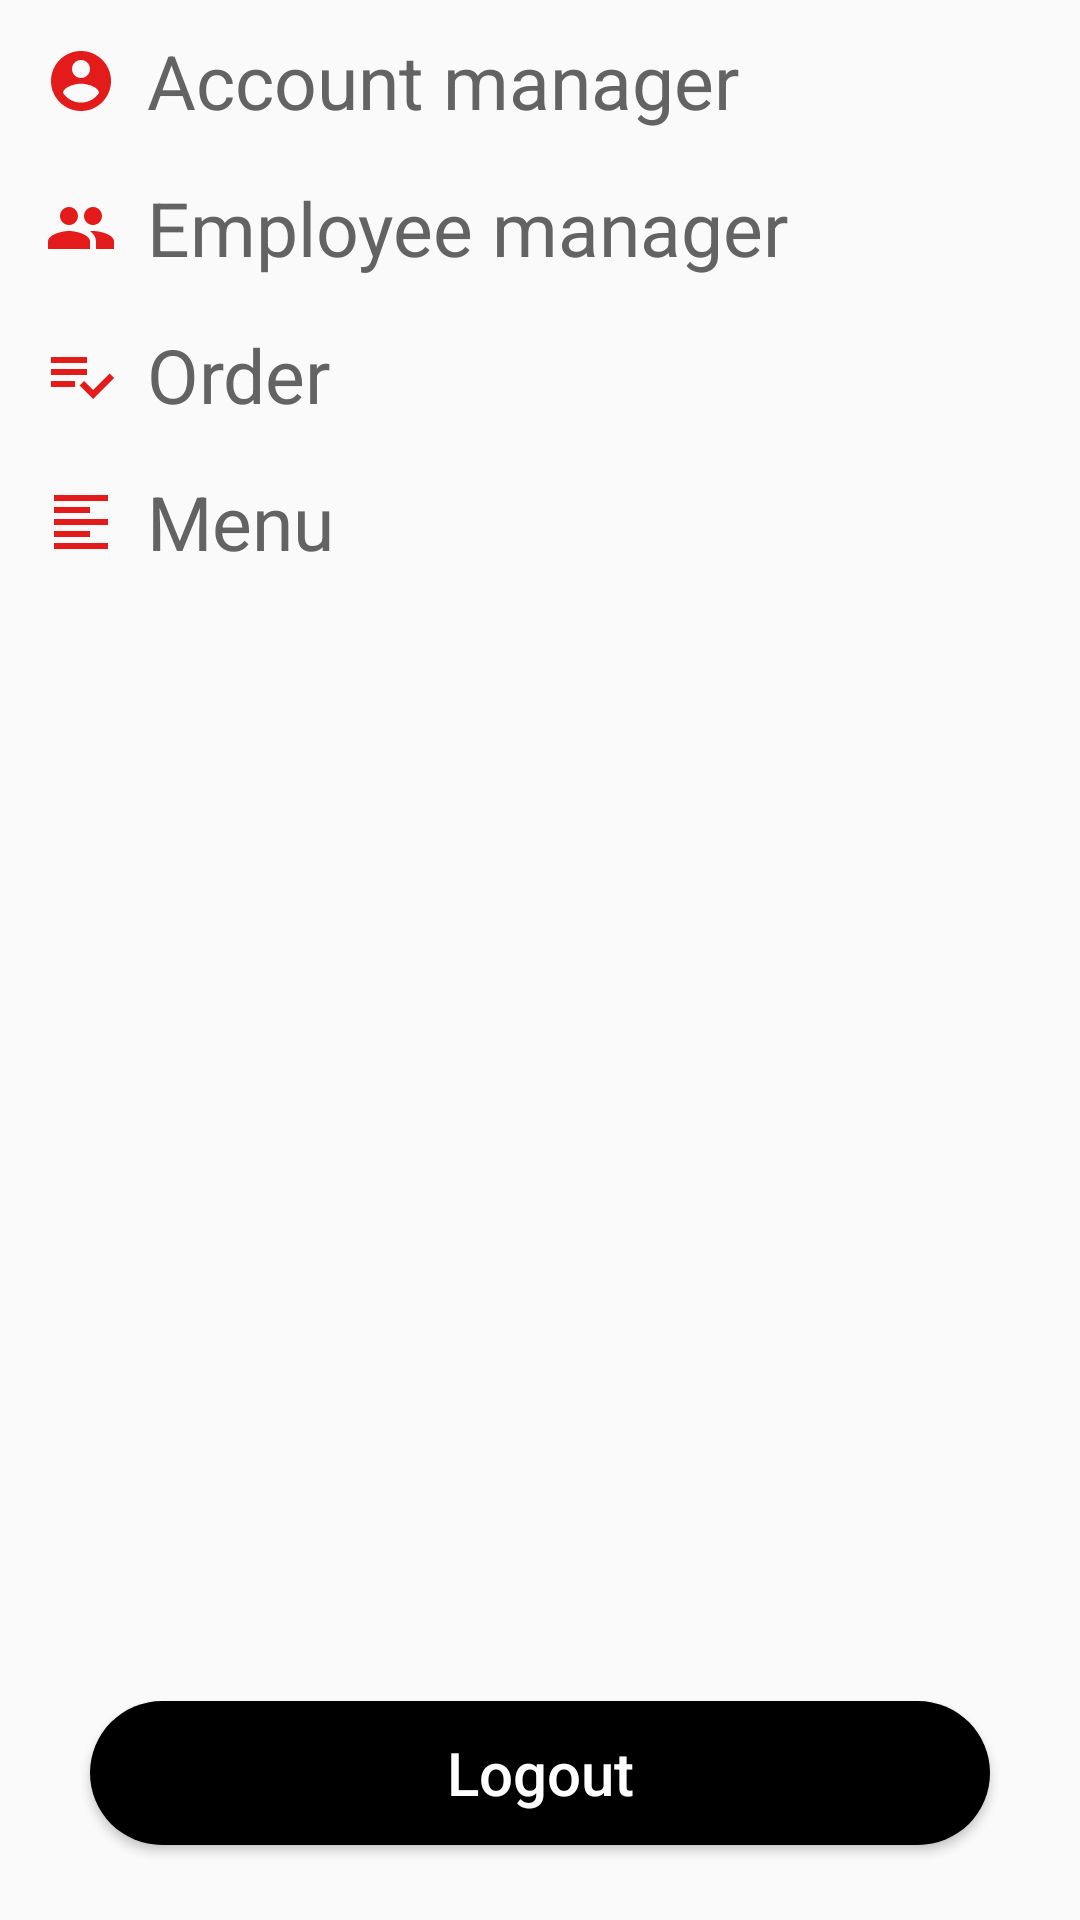

Icon bounding boxes for this 1080w x 1920h phone screenshot, format [x1,y1,x2,y2]:
account circle: [51,51,111,111]
left: [54,495,108,549]
